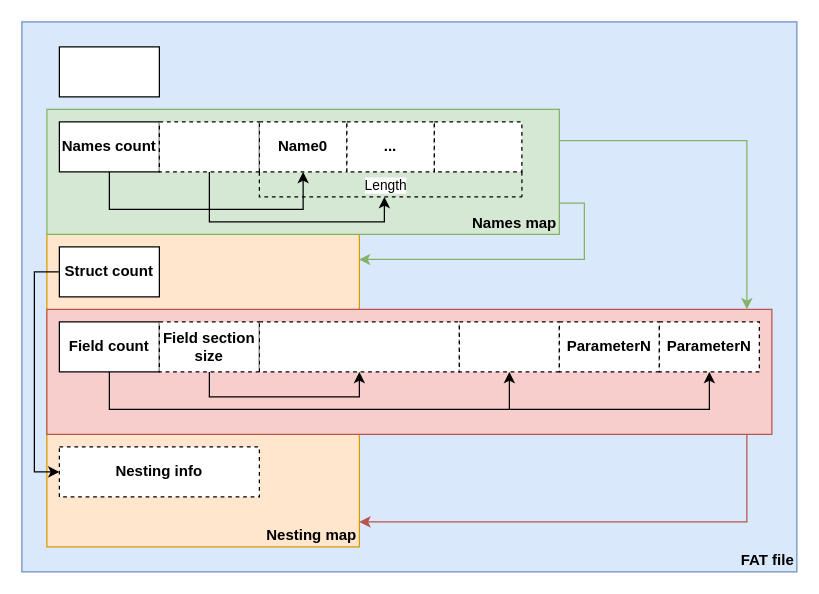
Image size: 819x594. Some labels were removed from this diagram. The shapes that lost their labels are listed below. From the top down, each one's box as (x1, y1, x2, y2) in pixels, then its label:
(58, 46, 159, 97): Magic byte (FAT)
(158, 121, 259, 172): Names data size
(433, 121, 522, 172): NameN
(258, 321, 459, 372): Field Payload
(458, 321, 559, 372): Parameter0
(46, 308, 772, 434): Field map
